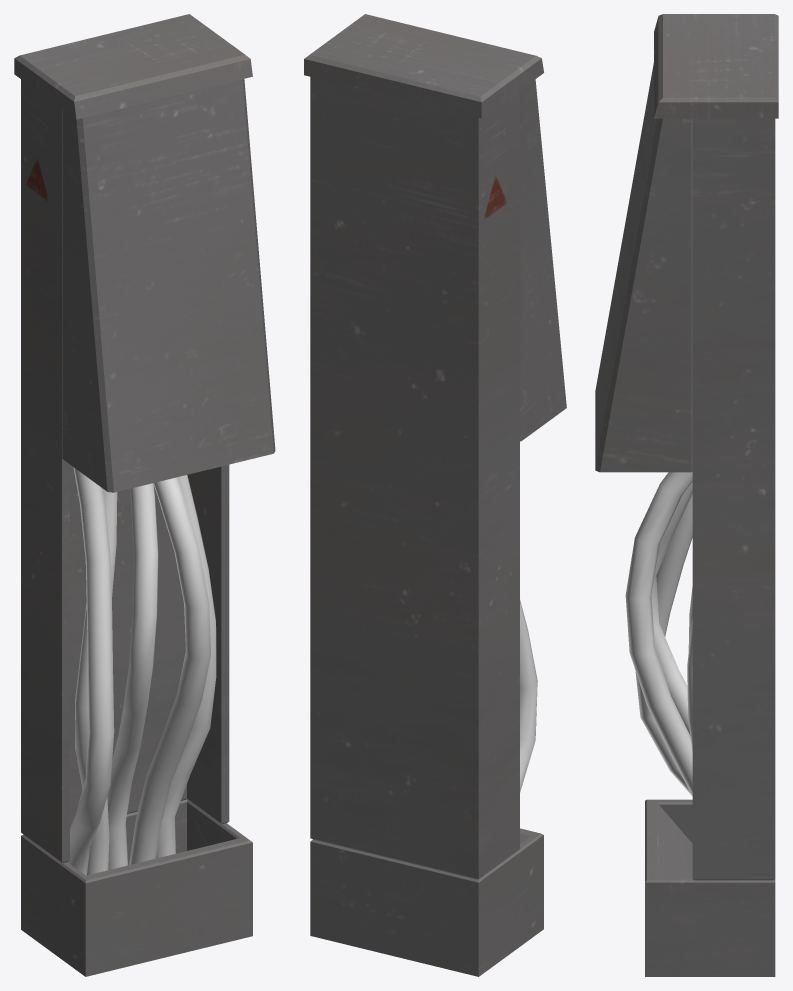
Rendered from KB3D_CBP_FuseBox_F.fbx.
The picture shows the model from 3 angles, left to right: view 1: azimuth 30°, elevation 25°; view 2: azimuth 150°, elevation 25°; view 3: azimuth 270°, elevation 25°; orthographic projection.
Parts seen in each view (by area): view 1: KB3D_CBP_FuseBox_F_Main; view 2: KB3D_CBP_FuseBox_F_Main; view 3: KB3D_CBP_FuseBox_F_Main.
Boxes of the visible parts, x1,y1,x2,y2 form: KB3D_CBP_FuseBox_F_Main: (14,14,275,976); KB3D_CBP_FuseBox_F_Main: (304,14,566,976); KB3D_CBP_FuseBox_F_Main: (595,14,778,976).
Bounding box in the file's own units: 33.87 × 160 × 30.32.
